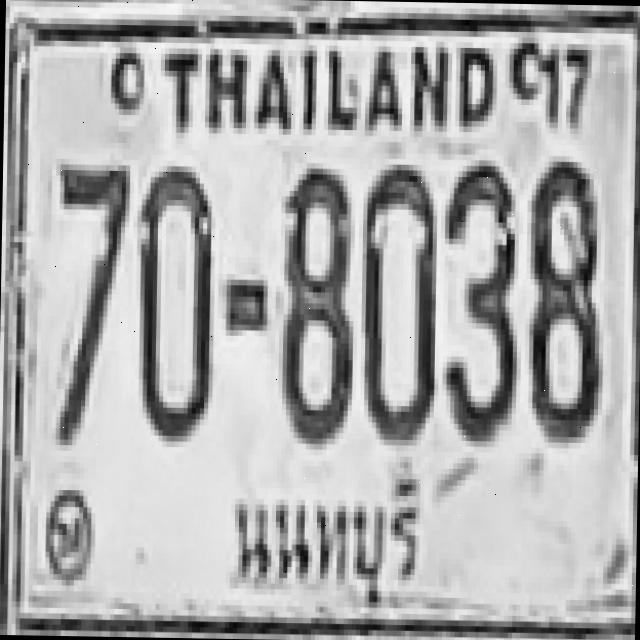0: (359, 161, 438, 443), (136, 162, 214, 438)
3: (439, 160, 518, 442)
7: (51, 161, 130, 437), (52, 161, 130, 398), (53, 160, 130, 348)
8: (523, 155, 602, 437), (278, 162, 352, 438)
Nonthaburi: (218, 464, 435, 612)
